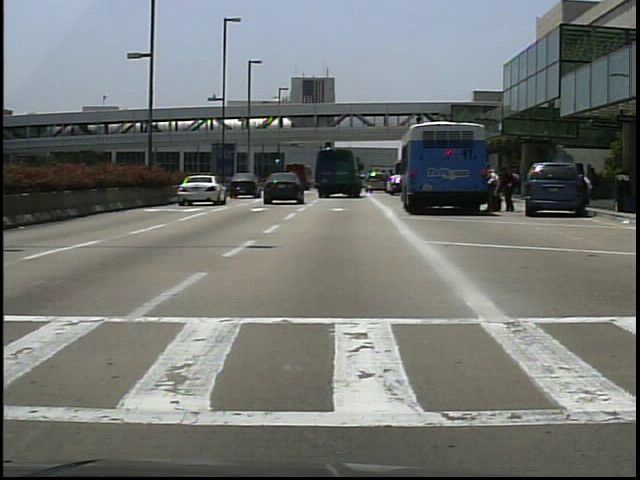person: (484, 162, 502, 215), (501, 162, 519, 212), (582, 168, 596, 208)
